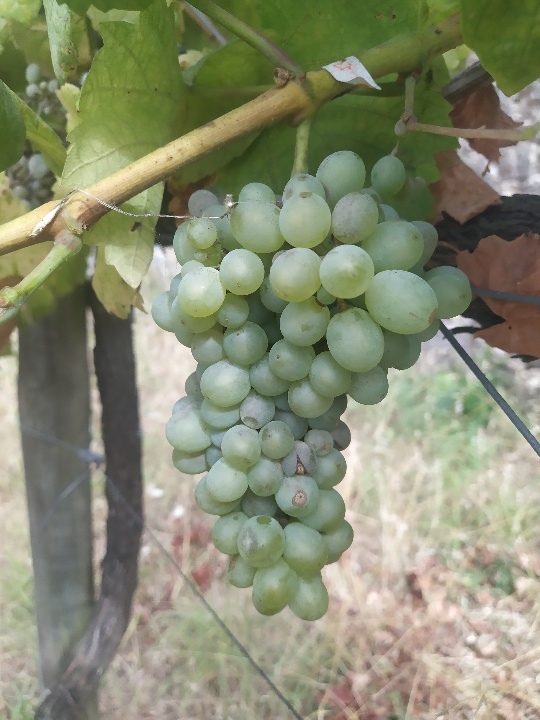grape: (146, 143, 476, 626)
